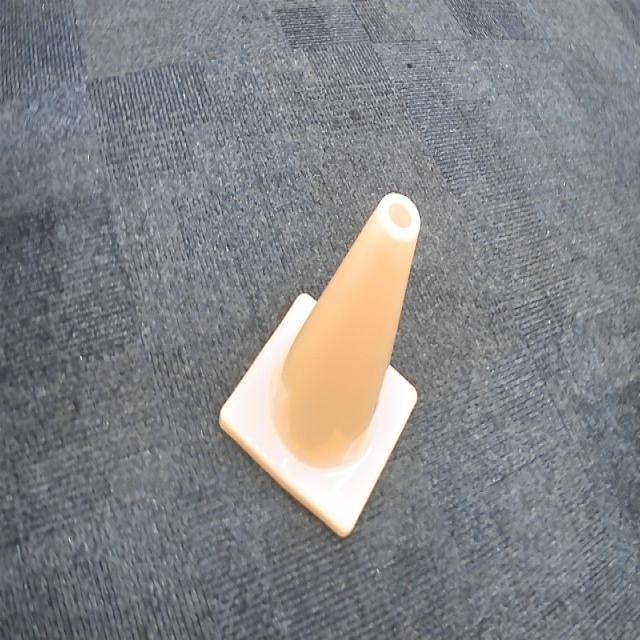cone: (218, 188, 422, 547)
